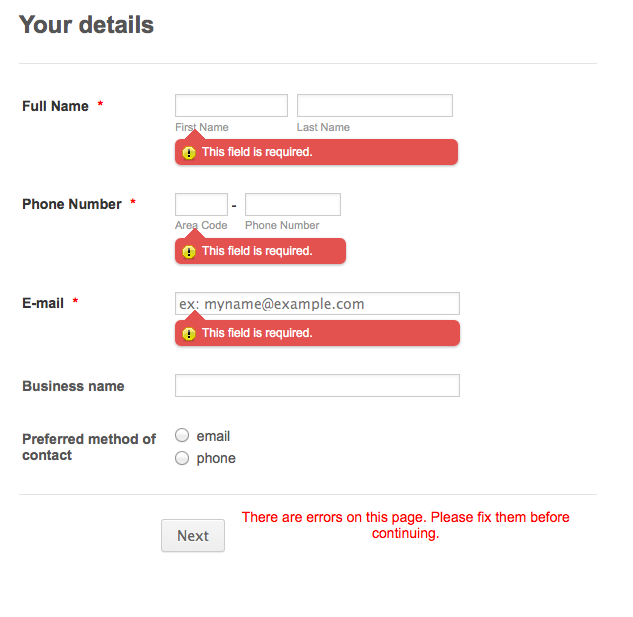error_message: (243, 510, 571, 525), (201, 244, 312, 259), (199, 326, 314, 340), (200, 145, 313, 159), (370, 524, 441, 540)
